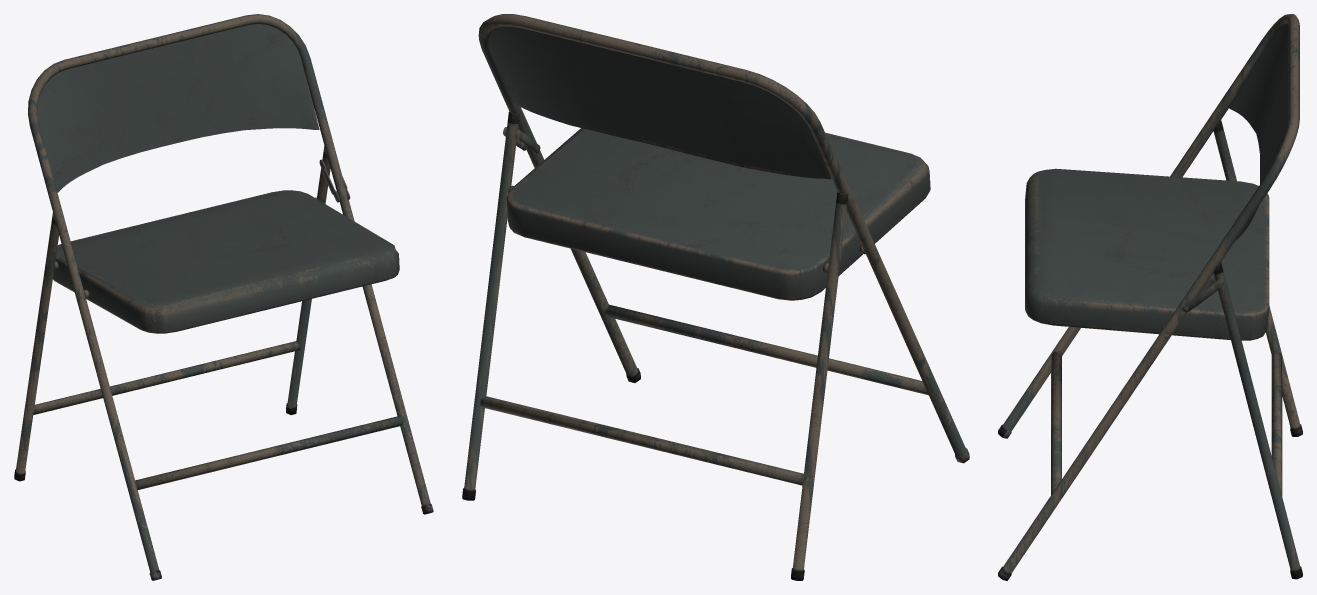
The model's file is metalChair.fbx.
The picture shows the model from 3 angles, left to right: view 1: azimuth 30°, elevation 25°; view 2: azimuth 150°, elevation 25°; view 3: azimuth 270°, elevation 25°; orthographic projection. The views are drawn at different scales.
Visible parts, largest first — view 1: metal_chair; view 2: metal_chair; view 3: metal_chair.
Part boxes in pixels (<box>): metal_chair: <box>14,14,433,580</box>; metal_chair: <box>462,14,969,580</box>; metal_chair: <box>998,14,1302,580</box>.
Bounding box in the file's own units: 2.25 × 3.12 × 1.96.
